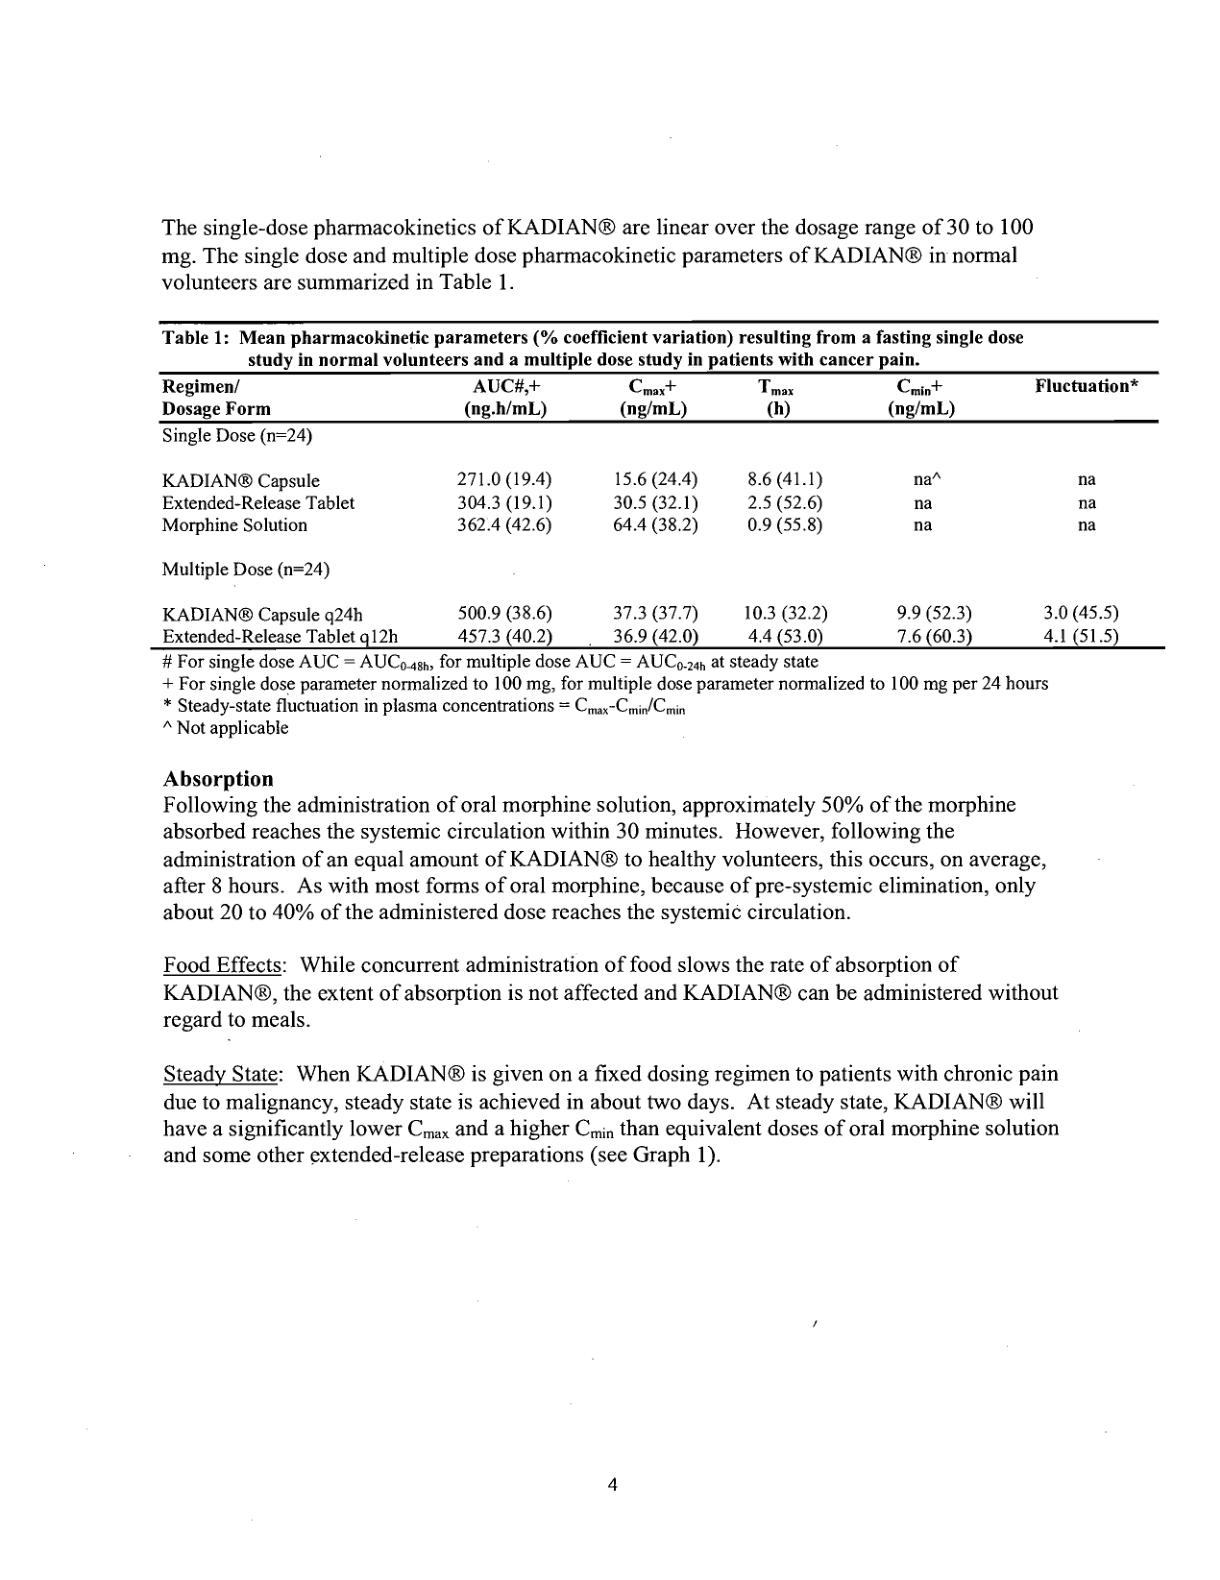partial_lined_merged_cells: (152, 318, 1166, 652)
